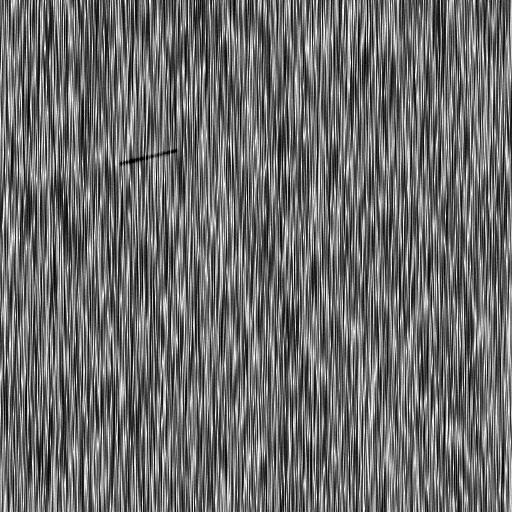DefectTypeC: (120, 148, 178, 169)
